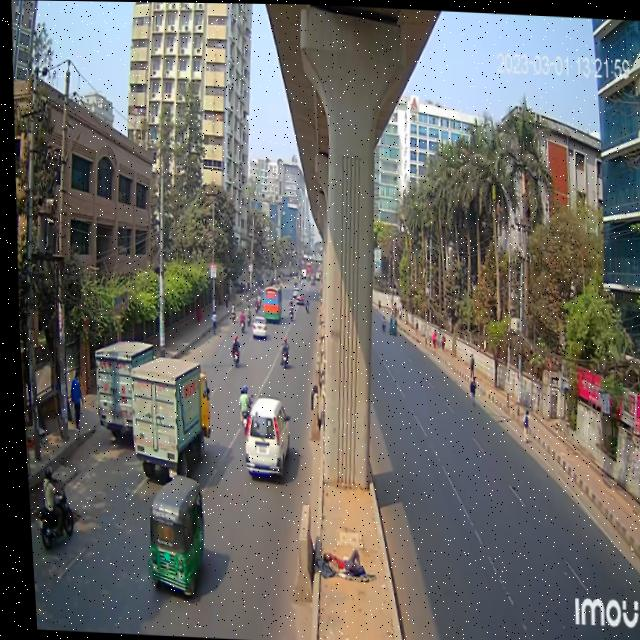cng: (130, 471, 207, 602)
